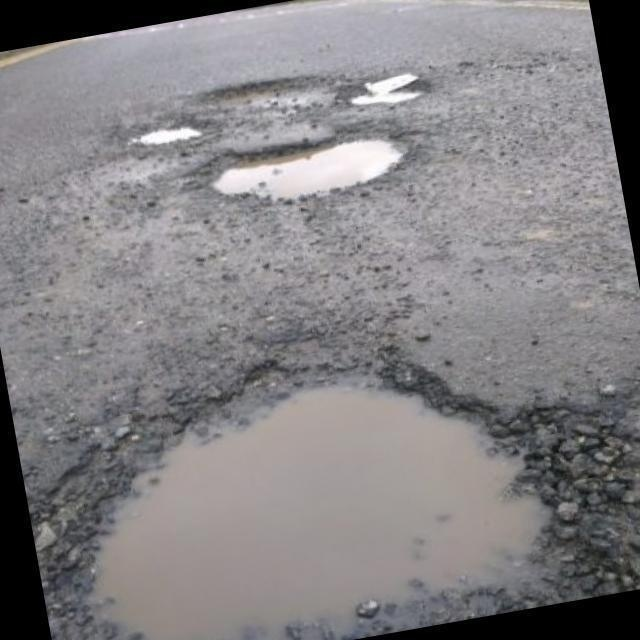pothole: (97, 332, 577, 638), (206, 142, 426, 202), (228, 67, 340, 125), (351, 59, 431, 120), (120, 104, 193, 156)
